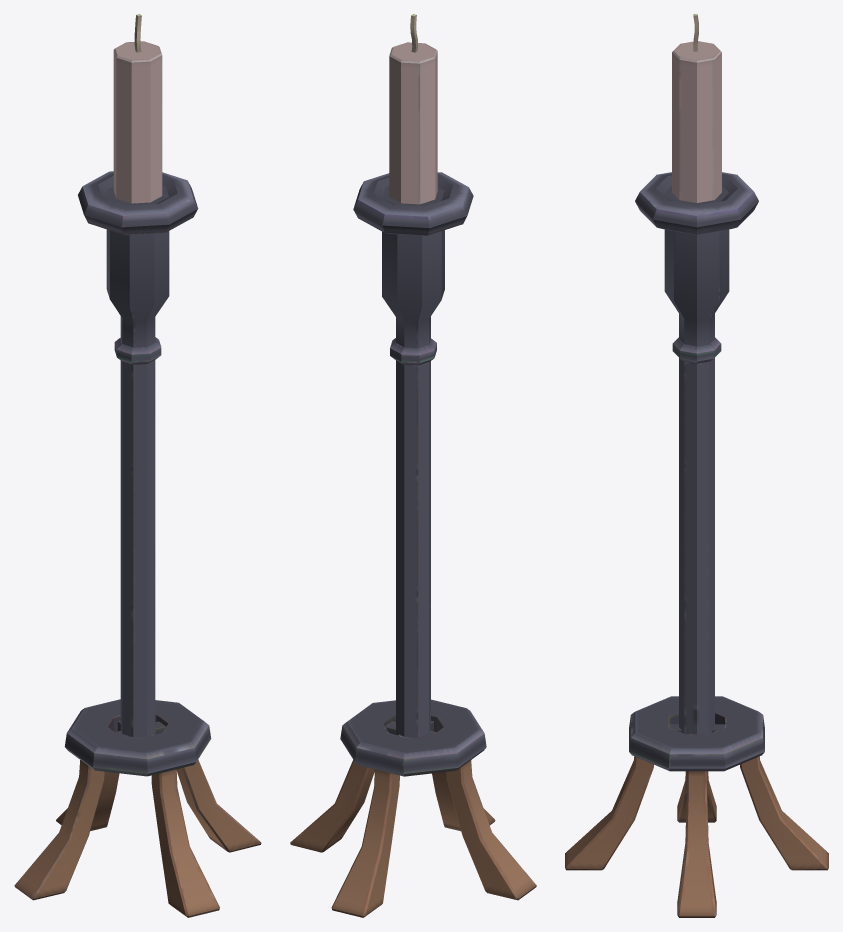
The model's file is Candelabro.fbx.
3 renders of one model, left to right at view 1: azimuth 30°, elevation 25°; view 2: azimuth 150°, elevation 25°; view 3: azimuth 270°, elevation 25°, orthographic.
Parts seen in each view (by area): view 1: Vela com pedestal; view 2: Vela com pedestal; view 3: Vela com pedestal.
Part boxes in pixels (bbox=[...]): Vela com pedestal: bbox=[14, 14, 261, 917]; Vela com pedestal: bbox=[290, 14, 536, 917]; Vela com pedestal: bbox=[565, 14, 828, 917].
Size of the model in its own units: 39.85 by 141 by 39.85.
1 material, 1 textured.
